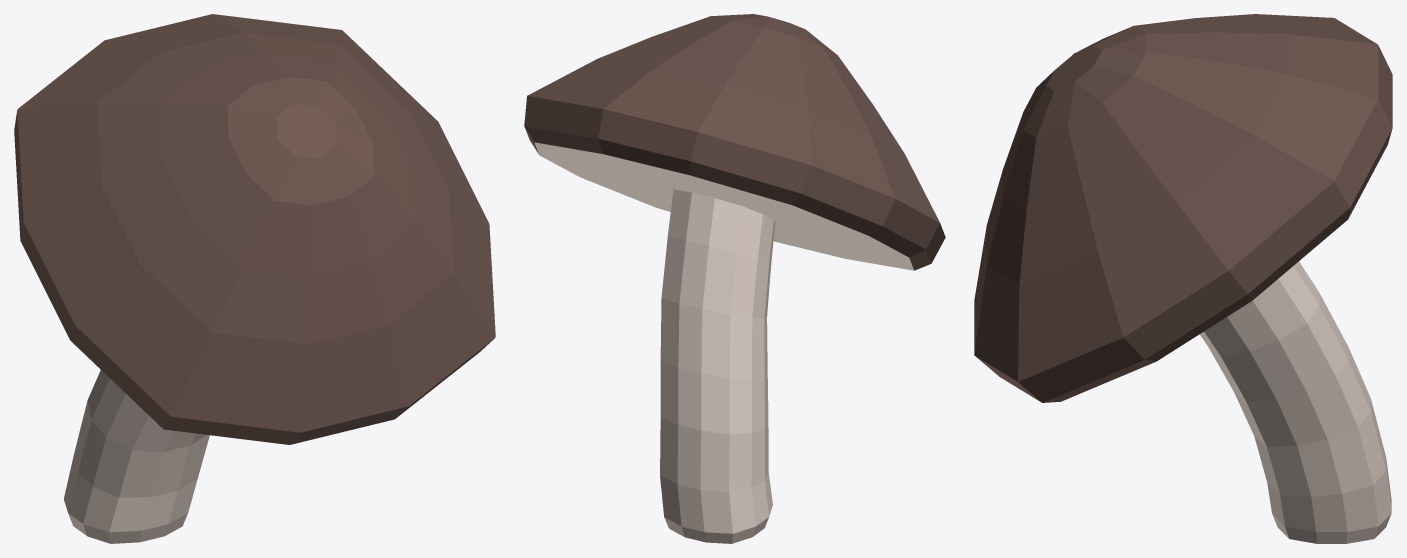
File: Mushroom1.5.fbx
The picture shows the model from 3 angles, left to right: view 1: azimuth 30°, elevation 25°; view 2: azimuth 150°, elevation 25°; view 3: azimuth 270°, elevation 25°; orthographic projection. The views are drawn at different scales.
Visible parts, largest first — view 1: Mushroom1.5; view 2: Mushroom1.5; view 3: Mushroom1.5.
Part boxes in pixels (x1=…): Mushroom1.5: x1=14, y1=14, x2=495, y2=543; Mushroom1.5: x1=524, y1=14, x2=945, y2=543; Mushroom1.5: x1=974, y1=14, x2=1392, y2=543.
Size of the model in its own units: 163 by 185 by 139.
